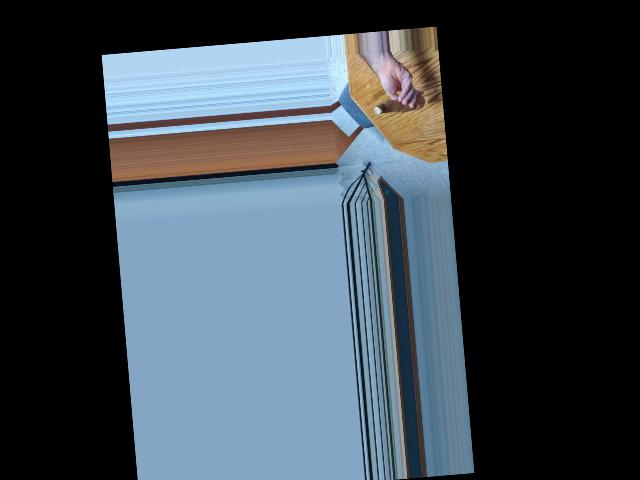sweet_potato: (372, 99, 417, 113)
